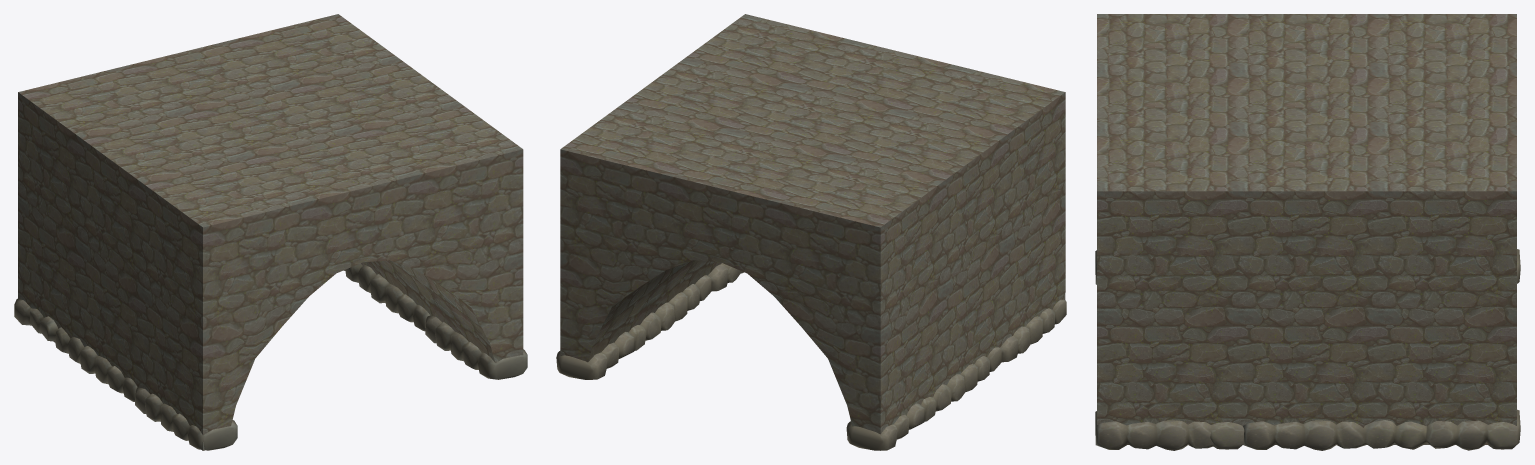
The model's file is SM_FW01_Ruins_Int_Ceiling_B_6x6_Corridor_01.fbx.
3 views of the same model, side by side, from view 1: azimuth 30°, elevation 25°; view 2: azimuth 150°, elevation 25°; view 3: azimuth 270°, elevation 25° (orthographic). The views are drawn at different scales.
Visible parts, largest first — view 1: SM_FW01_Ruins_Int_Ceiling_B_6x6_Corridor_01, SM_FW01_Ruins_Int_Ceiling_B_6x6_Corridor_01_LOD0; view 2: SM_FW01_Ruins_Int_Ceiling_B_6x6_Corridor_01, SM_FW01_Ruins_Int_Ceiling_B_6x6_Corridor_01_LOD0; view 3: SM_FW01_Ruins_Int_Ceiling_B_6x6_Corridor_01, SM_FW01_Ruins_Int_Ceiling_B_6x6_Corridor_01_LOD0.
Part boxes in pixels (box(x1,y1,x2,y2)): SM_FW01_Ruins_Int_Ceiling_B_6x6_Corridor_01: box(18, 14, 523, 450); SM_FW01_Ruins_Int_Ceiling_B_6x6_Corridor_01_LOD0: box(14, 263, 527, 450); SM_FW01_Ruins_Int_Ceiling_B_6x6_Corridor_01: box(560, 14, 1065, 450); SM_FW01_Ruins_Int_Ceiling_B_6x6_Corridor_01_LOD0: box(556, 263, 1066, 450); SM_FW01_Ruins_Int_Ceiling_B_6x6_Corridor_01: box(1097, 14, 1516, 444); SM_FW01_Ruins_Int_Ceiling_B_6x6_Corridor_01_LOD0: box(1095, 249, 1520, 450).
Size of what is drawn, in the model's own units: 6.3 by 4.08 by 6.08.
